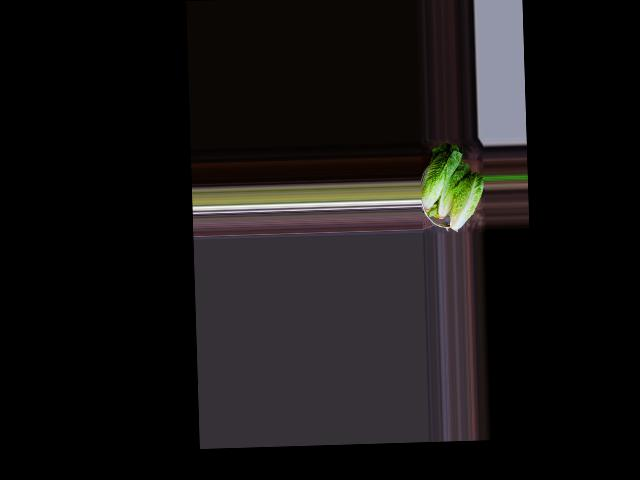lettuce: (419, 144, 465, 216)
